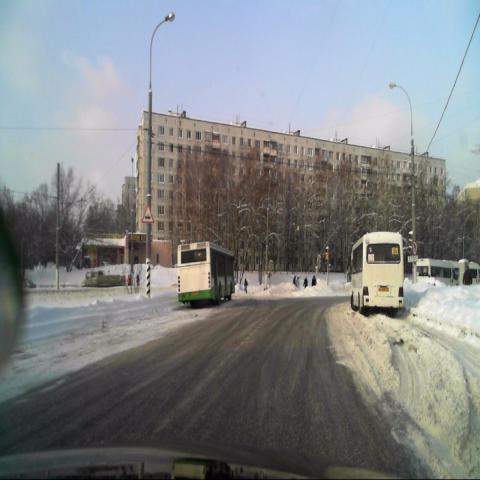1_5: (142, 204, 154, 224)
